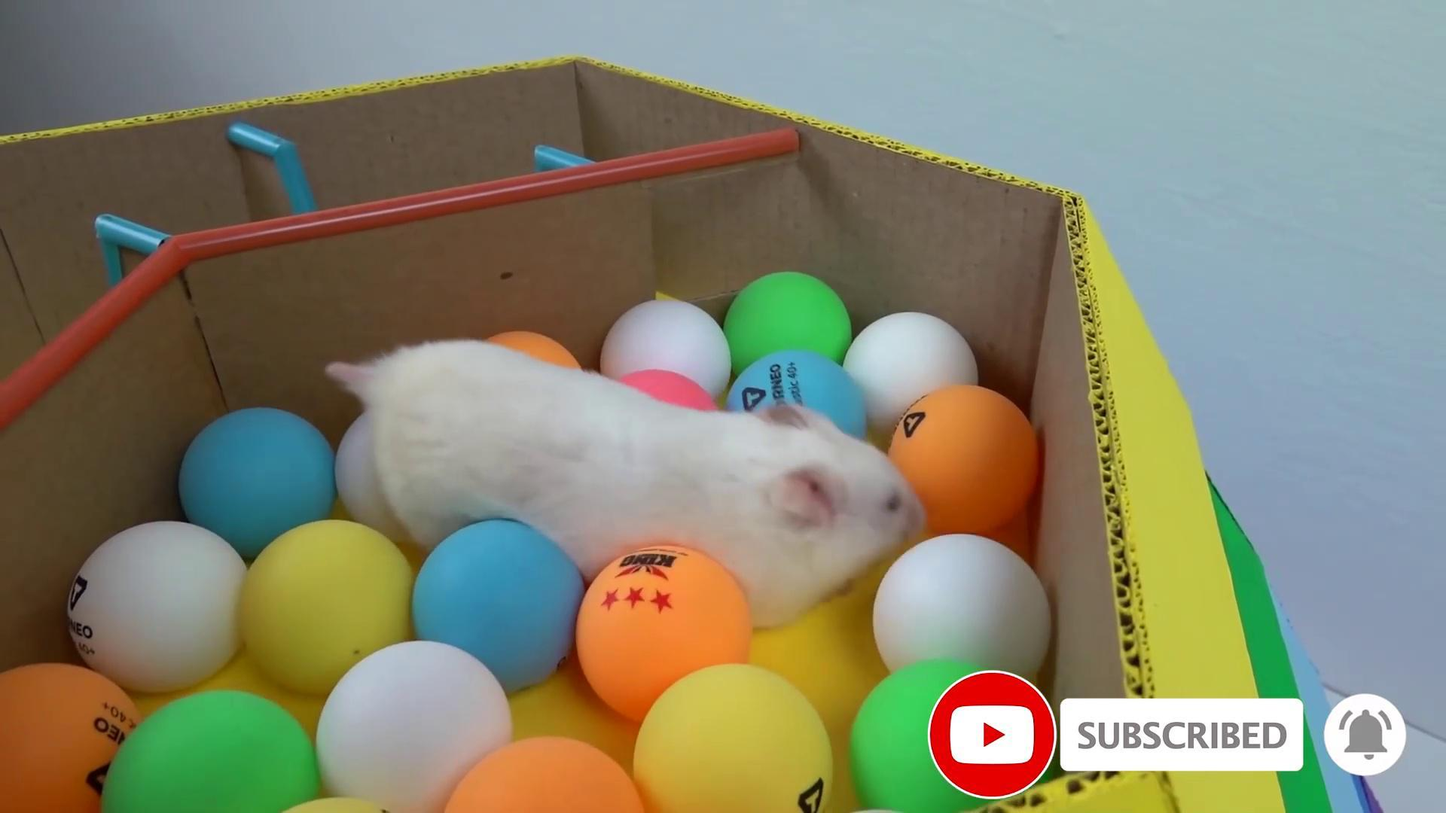rat: (324, 338, 923, 631)
